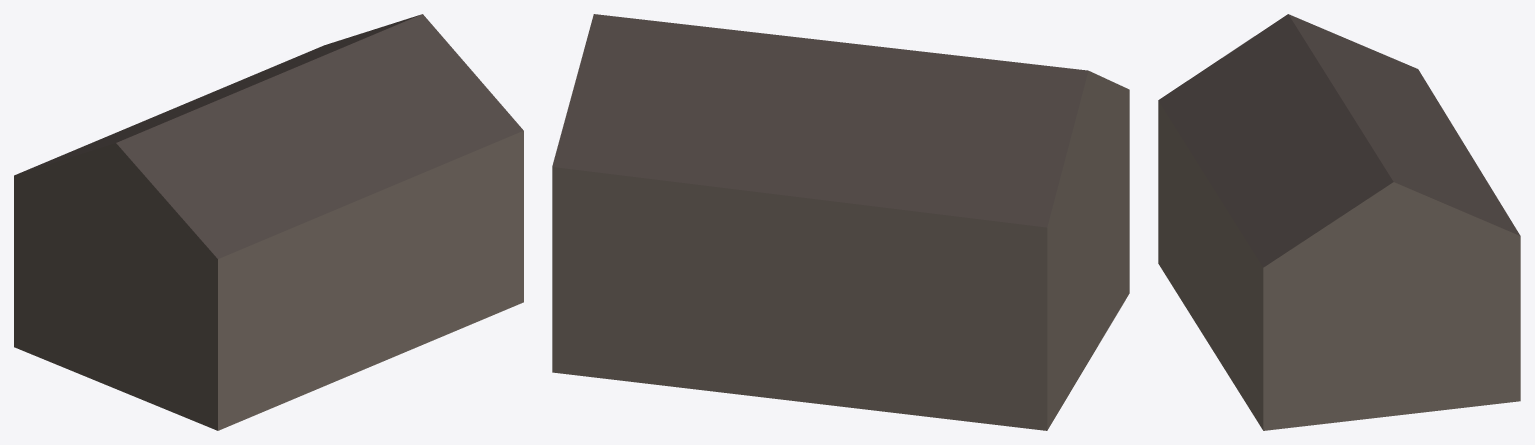
The picture shows the model from 3 angles, left to right: view 1: azimuth 30°, elevation 25°; view 2: azimuth 150°, elevation 25°; view 3: azimuth 270°, elevation 25°; orthographic projection. The views are drawn at different scales.
Parts seen in each view (by area): view 1: HP-w757497633; view 2: HP-w757497633; view 3: HP-w757497633.
Part boxes in pixels (bbox=[...]): HP-w757497633: bbox=[14, 14, 523, 430]; HP-w757497633: bbox=[552, 14, 1129, 430]; HP-w757497633: bbox=[1158, 14, 1520, 430].
Size of the model in its own units: 23.49 by 12.9 by 18.12.
